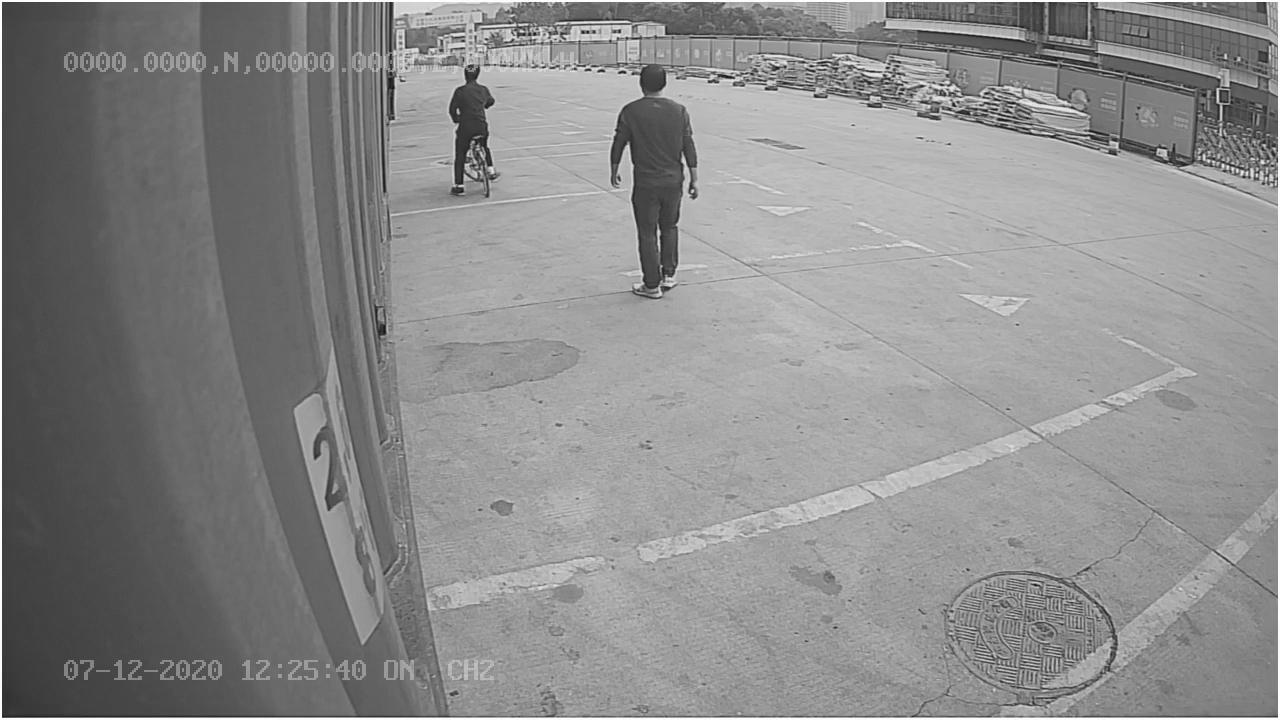person: (601, 58, 705, 301)
